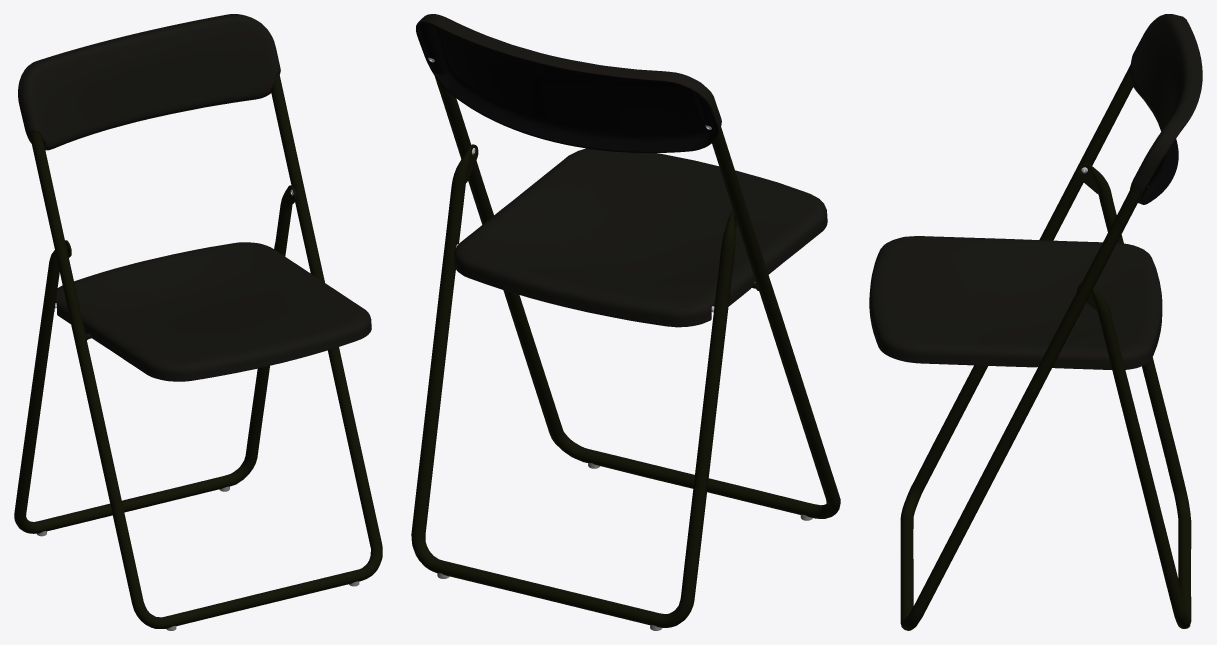
3 views of the same model, side by side, from view 1: azimuth 30°, elevation 25°; view 2: azimuth 150°, elevation 25°; view 3: azimuth 270°, elevation 25° (orthographic). The views are drawn at different scales.
Visible parts, largest first — view 1: ASY_ART_90651742_S01_NV01; view 2: ASY_ART_90651742_S01_NV01; view 3: ASY_ART_90651742_S01_NV01.
Part boxes in pixels (x1,y1,x2,y2): ASY_ART_90651742_S01_NV01: (14, 14, 382, 630); ASY_ART_90651742_S01_NV01: (411, 14, 840, 630); ASY_ART_90651742_S01_NV01: (869, 14, 1202, 630).
Size of the model in its own units: 0.4428 by 0.7962 by 0.4713.
1 material, 1 textured.
